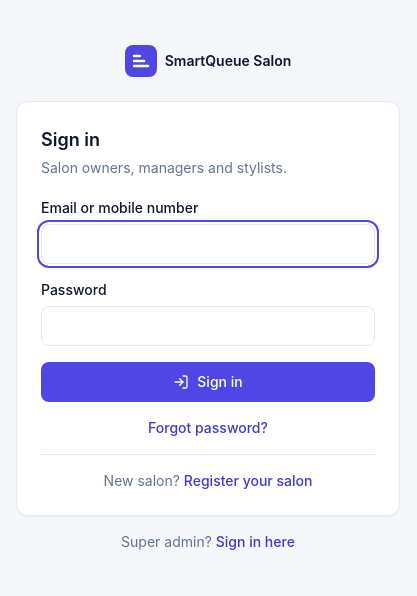
it: LoginScreen › shows the server's reason for a refused sign-in
Type "ravi@example.test" into the field labelled "Email or mobile number".
click(208, 244); type("ravi@example.test")  # box x1=41 y1=224 x2=375 y2=264
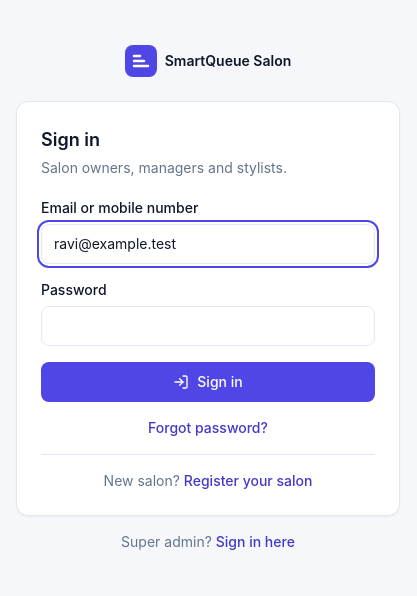
Type "secret123" into the password field labelled "Password".
click(208, 326); type("secret123")  # box x1=41 y1=306 x2=375 y2=346
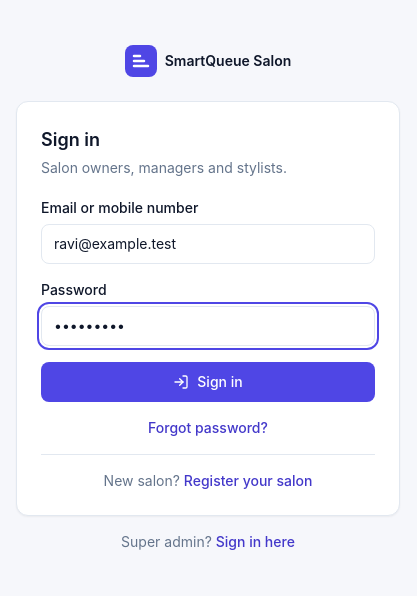
Click the button "Sign in".
click(208, 382)  # box x1=41 y1=362 x2=375 y2=402
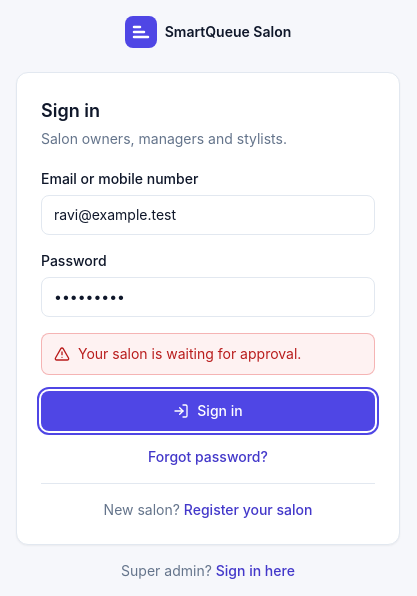
Expected: the message reads "Your salon is waiting for approval.", x1=78 y1=344 x2=301 y2=362
